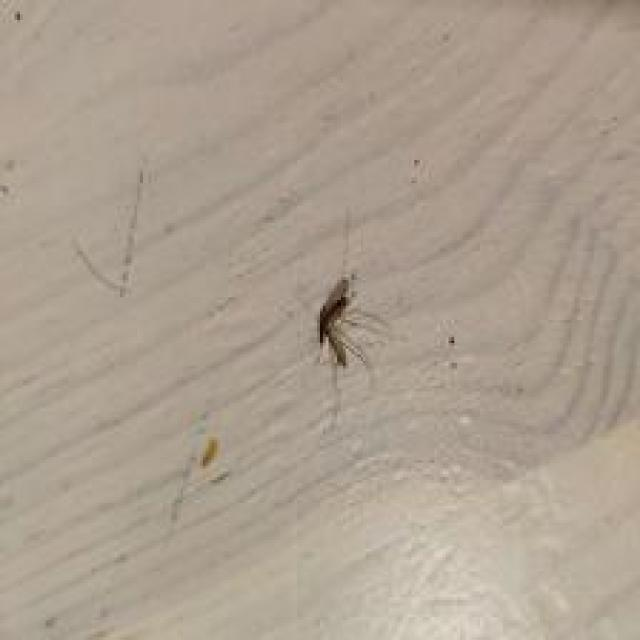Culex: (314, 273, 366, 370)
